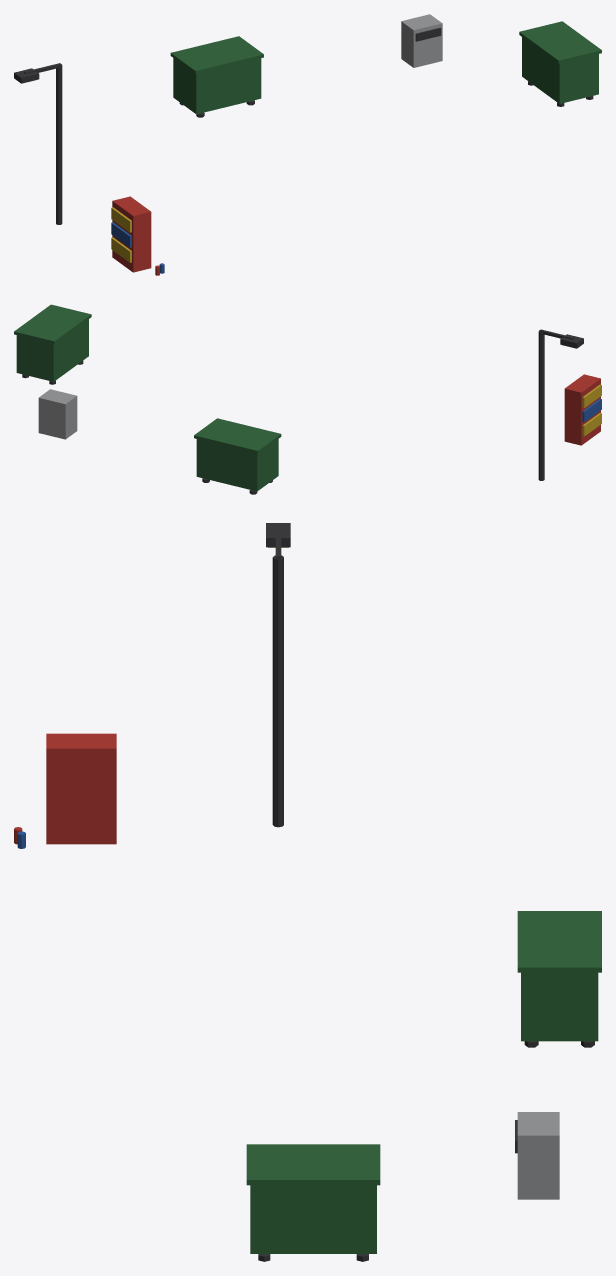
Rendered from superette_props.glb.
3 views of the same model, one above another, from view 1: azimuth 30°, elevation 25°; view 2: azimuth 150°, elevation 25°; view 3: azimuth 270°, elevation 25° (orthographic). The views are drawn at different scales.
Visible parts, largest first — view 1: superette_props; view 2: superette_props; view 3: superette_props.
Boxes of the visible parts, x1,y1,x2,y2 form: superette_props: [14, 14, 601, 275]; superette_props: [14, 304, 601, 494]; superette_props: [14, 523, 601, 1261].
Bounding box in the file's own units: 15.95 × 4.23 × 8.36.
